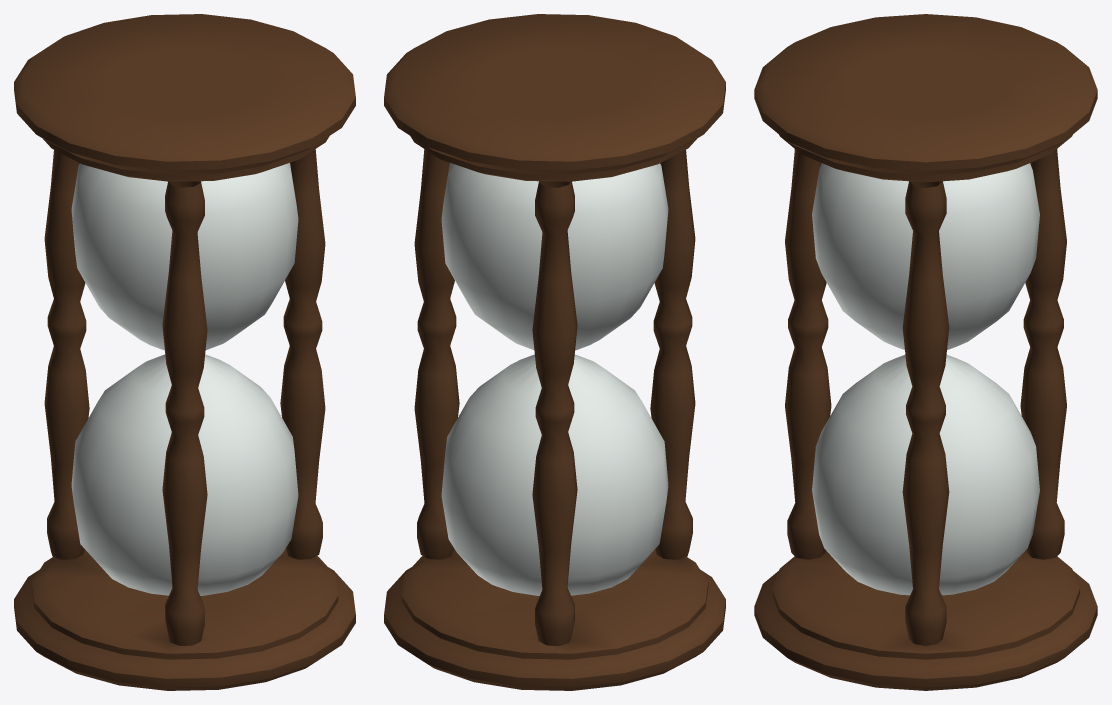
The model's file is sandglass.glb.
3 renders of one model, left to right at view 1: azimuth 30°, elevation 25°; view 2: azimuth 150°, elevation 25°; view 3: azimuth 270°, elevation 25°, orthographic.
Visible parts, largest first — view 1: base, glass; view 2: base, glass; view 3: base, glass.
Part boxes in pixels (x1,y1,x2,y2): base: (14, 14, 355, 690); glass: (71, 163, 298, 595); base: (384, 14, 725, 690); glass: (441, 163, 668, 595); base: (754, 14, 1097, 690); glass: (812, 163, 1039, 595).
Size of the model in its own units: 0.106 by 0.184 by 0.106.
